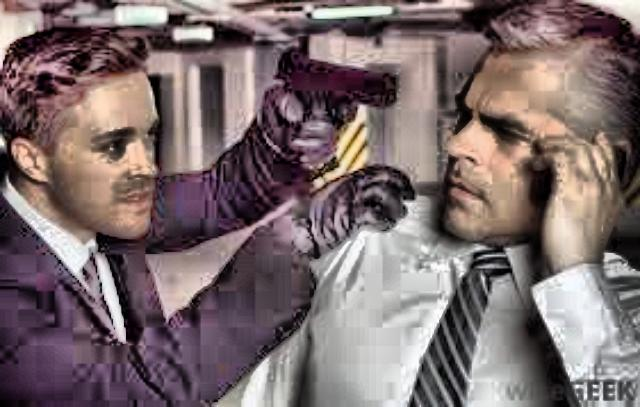pistol: (269, 36, 405, 166)
